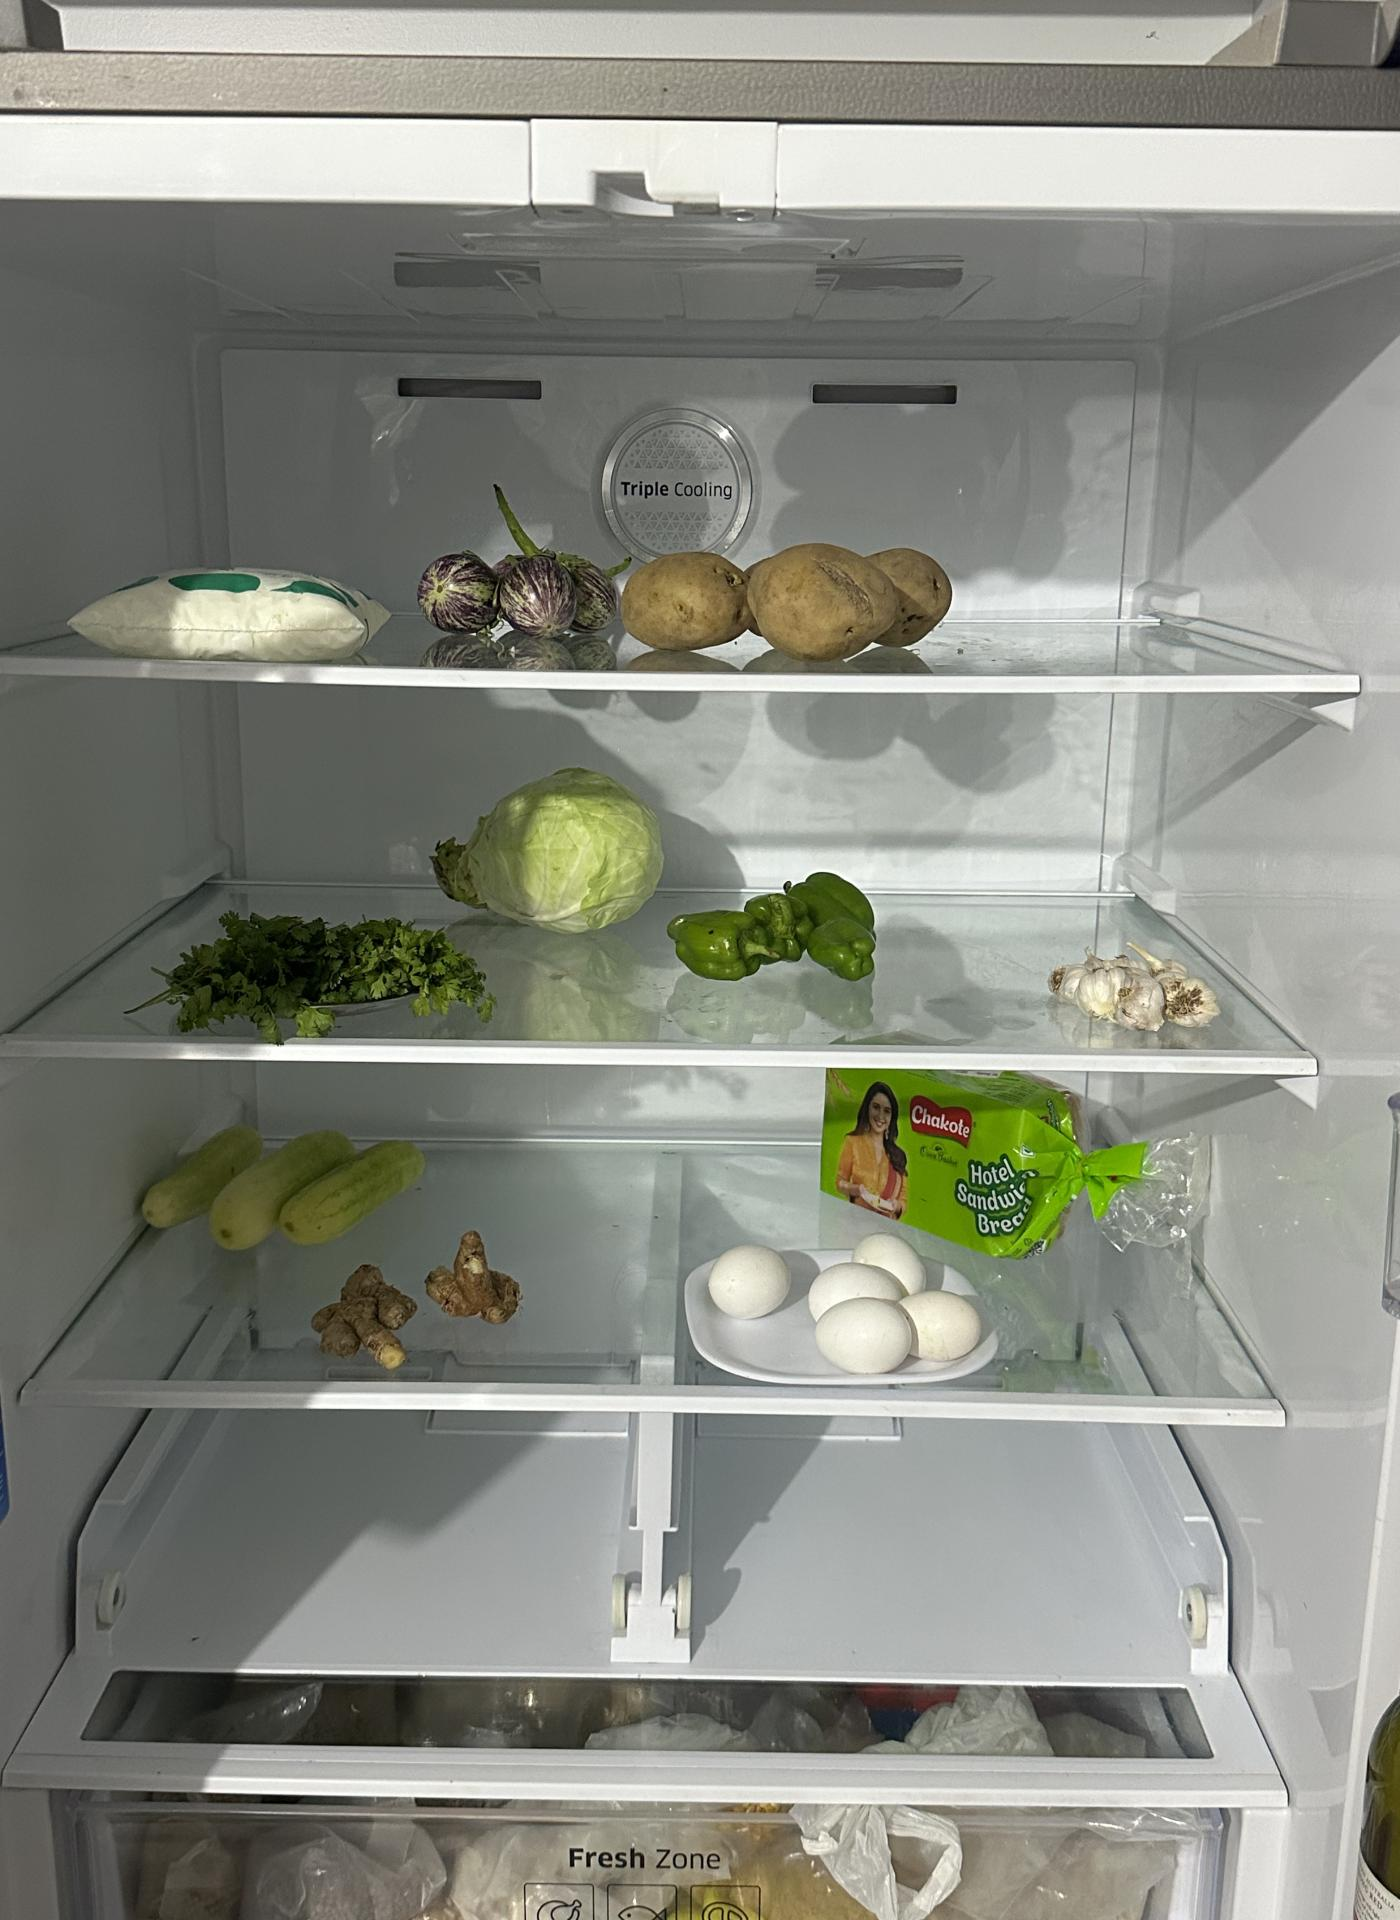bread: (820, 1057, 1085, 1249)
brinjal: (409, 541, 614, 645)
cabbage: (434, 774, 662, 935)
capsicum: (662, 865, 874, 979)
coriander: (165, 903, 482, 1024)
cucumber: (133, 1128, 434, 1252)
egg: (808, 1243, 986, 1377)
garlic: (1045, 936, 1220, 1030)
ginger: (380, 1230, 532, 1327), (315, 1267, 420, 1371)
milk: (64, 563, 386, 656)
potato: (620, 555, 951, 653)
